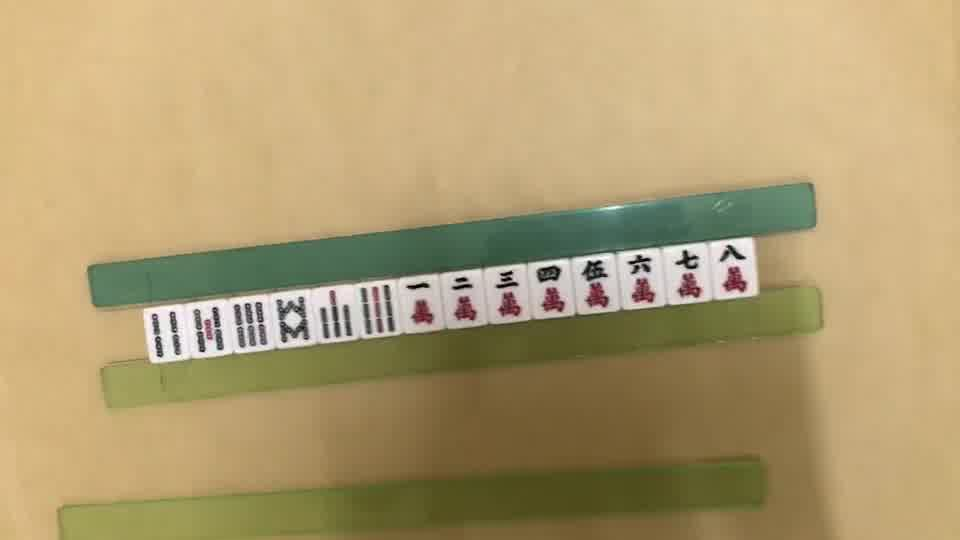1m: (406, 281, 437, 326)
2m: (453, 277, 480, 320)
3m: (493, 271, 522, 315)
4m: (535, 264, 567, 315)
4s: (148, 311, 182, 360)
5m: (579, 258, 613, 308)
5s: (191, 306, 226, 349)
6m: (628, 253, 657, 303)
6s: (231, 298, 268, 347)
7m: (675, 253, 704, 299)
7s: (318, 287, 352, 344)
8m: (718, 240, 750, 296)
8s: (275, 293, 311, 344)
9s: (357, 284, 397, 334)
